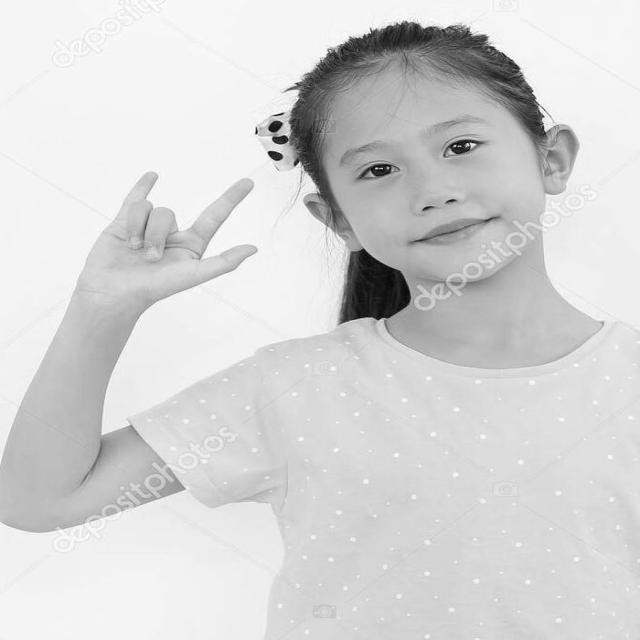i love you: (71, 162, 266, 328)
